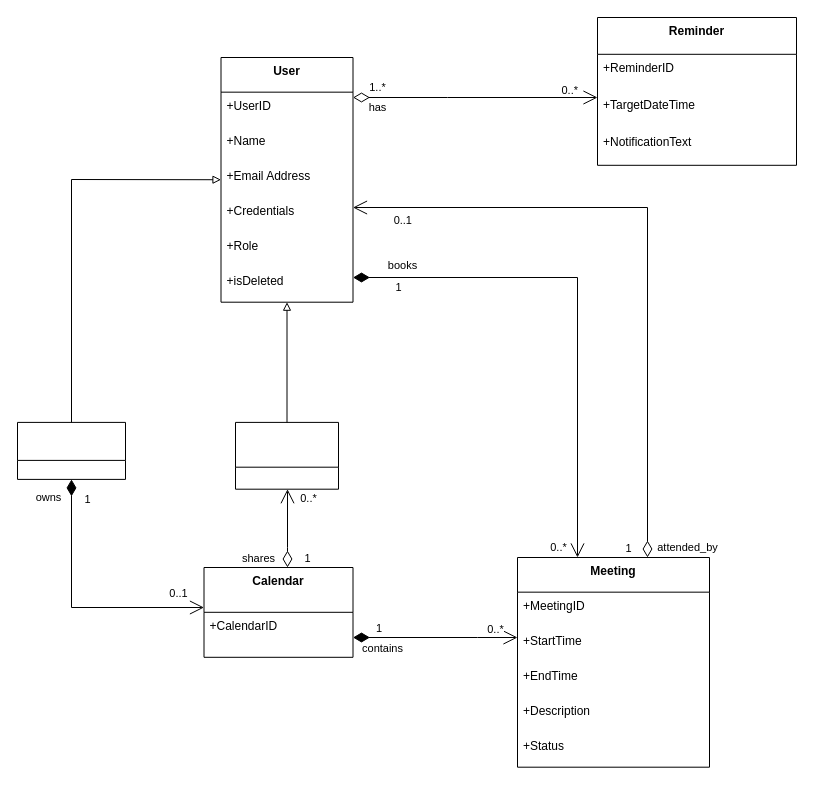
Some shapes in this 814 by 788 pixel diagram are drawn without their labels. Here are the shapes that lost their labels. From the top down, the centre of each, then its label:
At (x=71, y=450): "Supervisor".
At (x=286, y=455): "Student".
